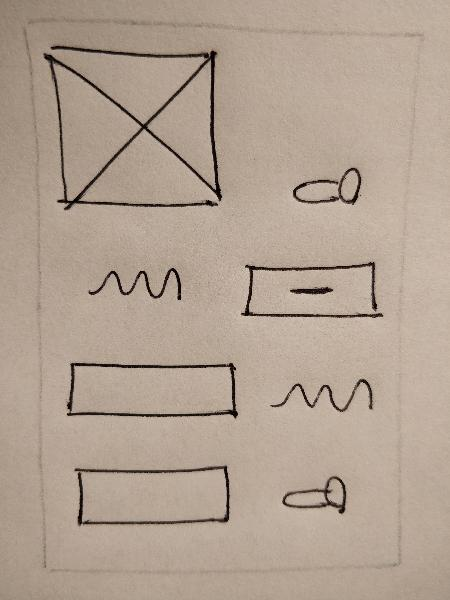button: (235, 259, 392, 327)
image: (39, 40, 232, 217)
switch: (274, 468, 355, 530), (283, 159, 370, 215)
text: (269, 370, 377, 429), (82, 258, 187, 310)
text_input: (61, 354, 242, 427), (65, 461, 241, 531)
